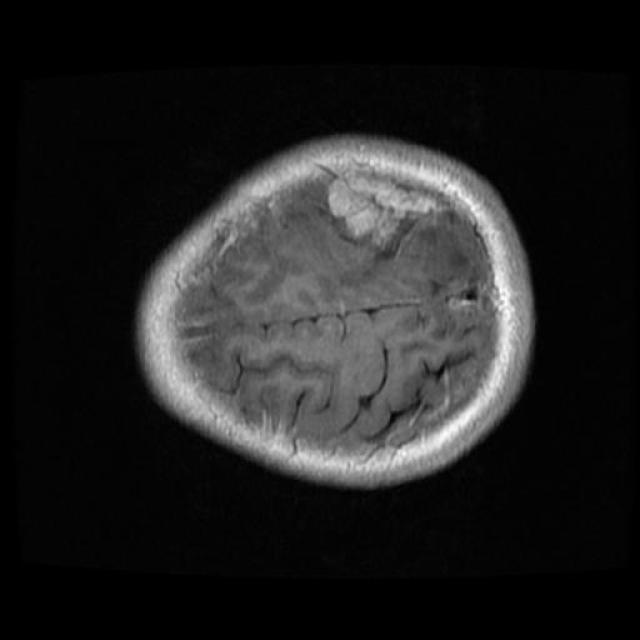Meningioma: (328, 173, 448, 252)
